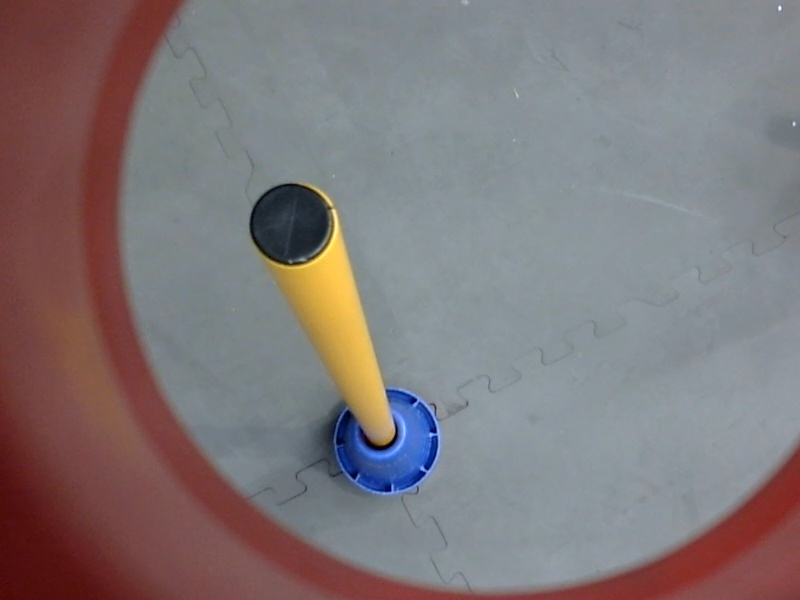tip: (245, 175, 340, 271)
